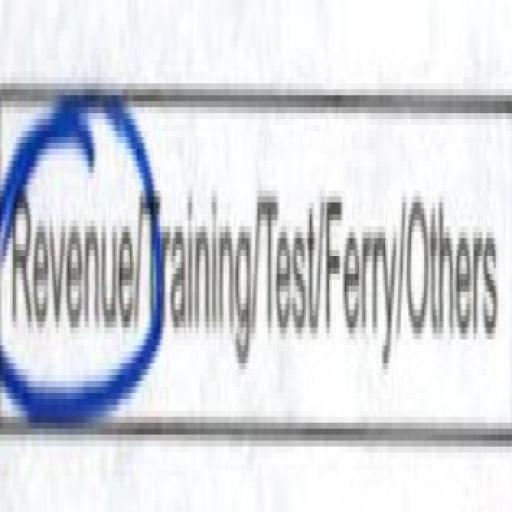check: (0, 62, 147, 441)
